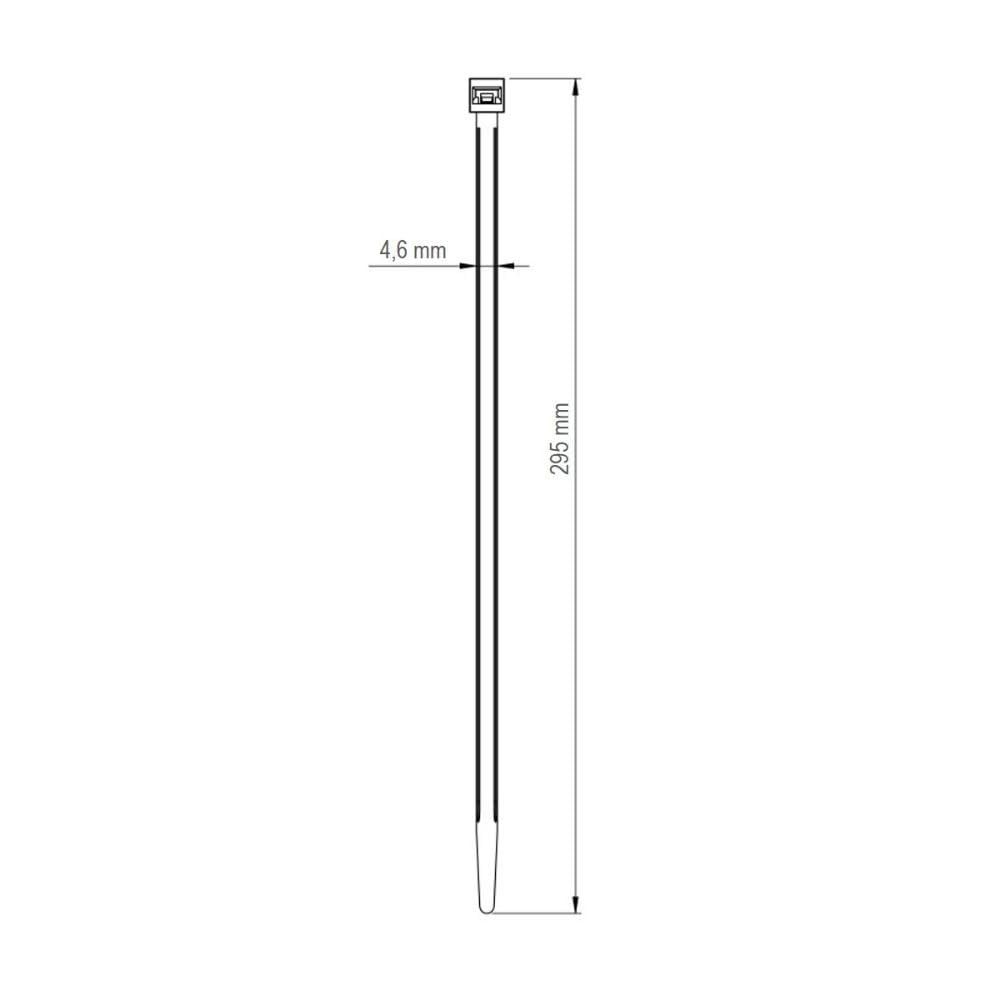46mm: (380, 240, 445, 261)
WU: (556, 404, 568, 434)
